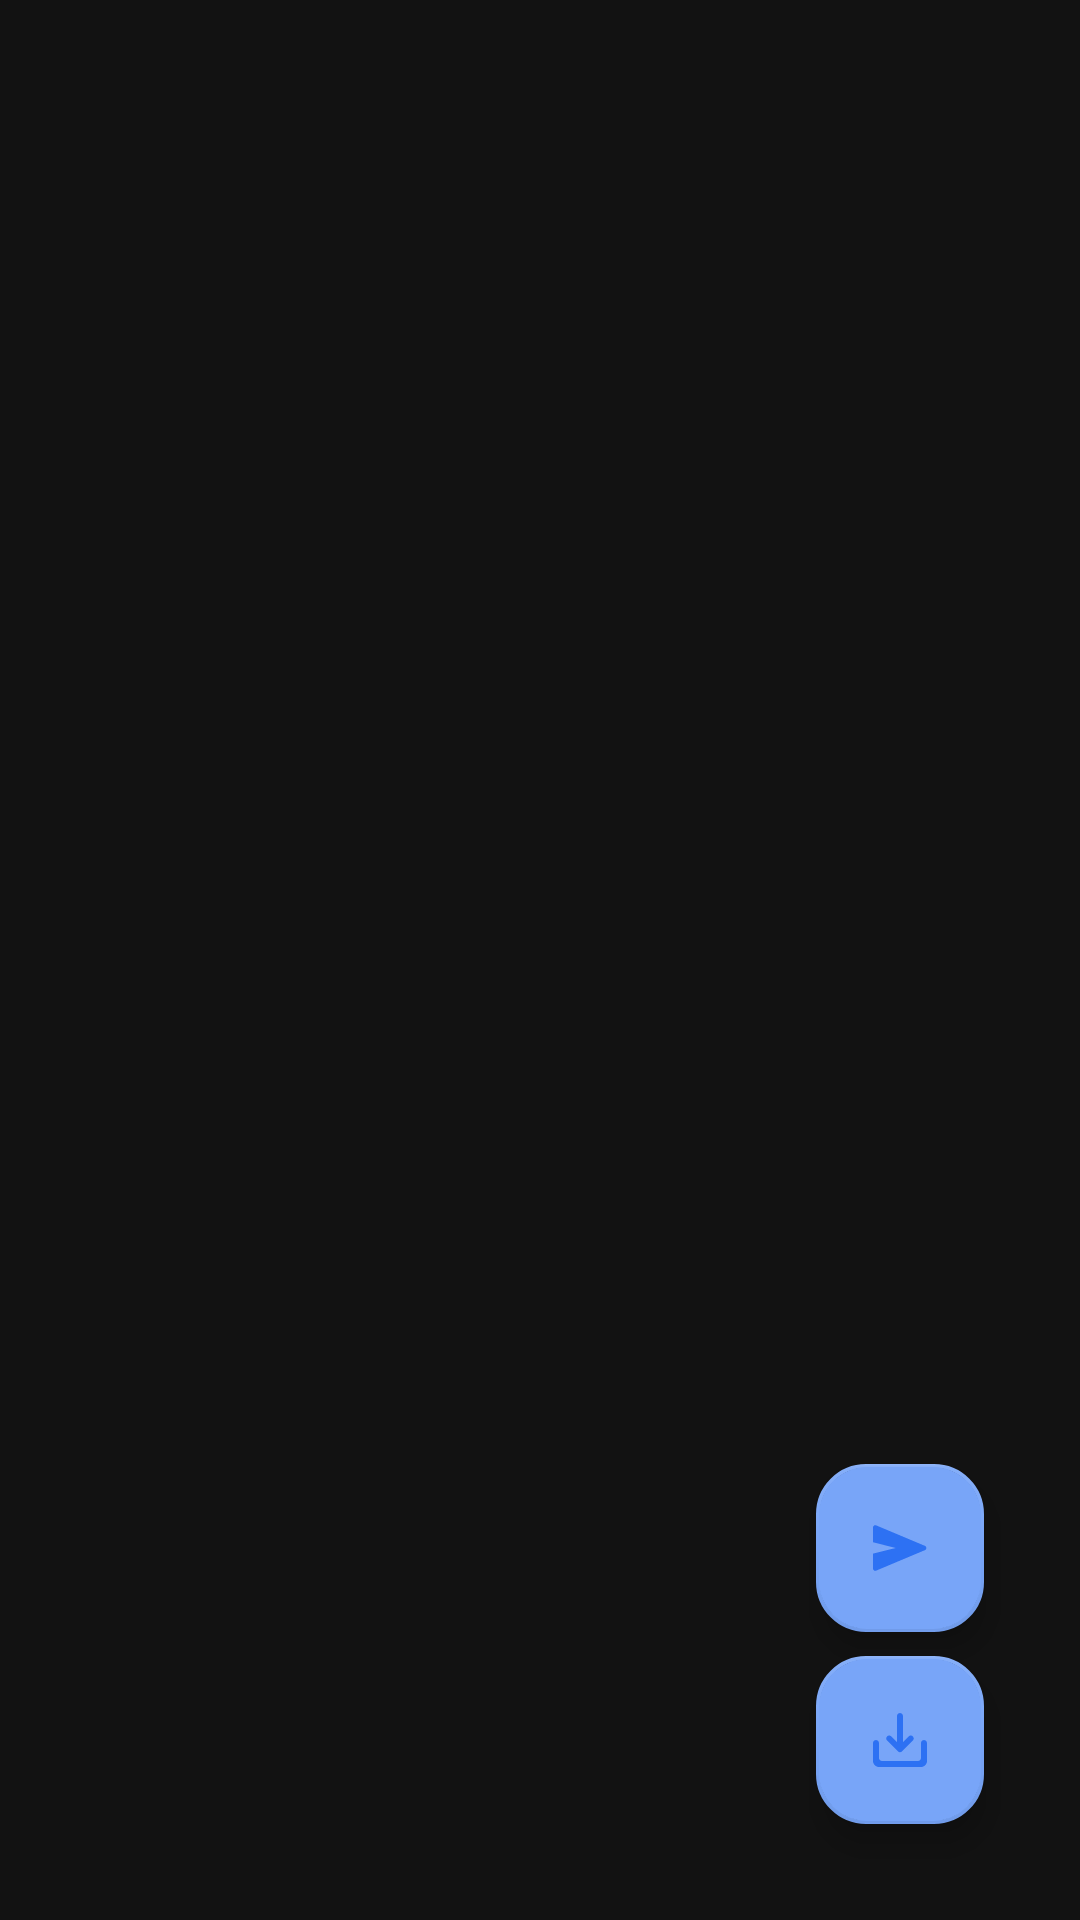

Where icons sit on this 1080*1920 app screen, as bbox(x1, y1, x2, y2):
save: bbox(816, 1656, 984, 1824)
share: bbox(816, 1464, 984, 1632)
